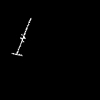treble_crochet: (13, 19, 30, 54)
